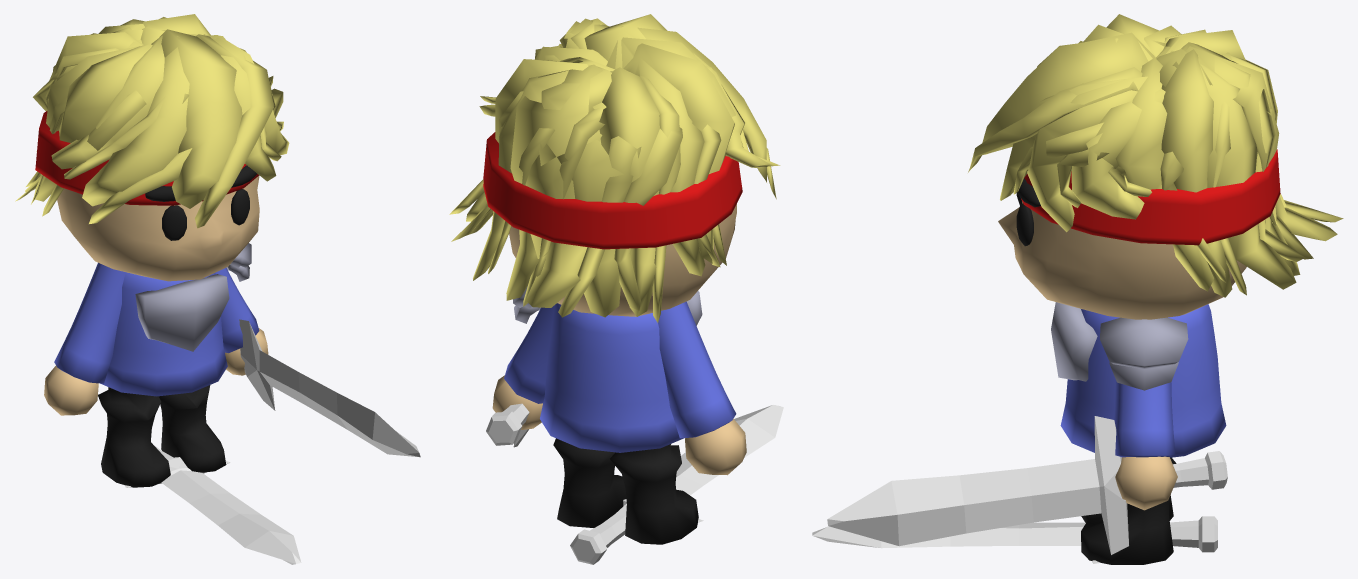
Rendered from sword.fbx.
3 renders of one model, left to right at view 1: azimuth 30°, elevation 25°; view 2: azimuth 150°, elevation 25°; view 3: azimuth 270°, elevation 25°, orthographic. The views are drawn at different scales.
Visible parts, largest first — view 1: hair_clump_001, head, body, hair_clump_001.002, Plane.002, hair_clump_001.006, Cube.004, right_leg, Plane.001, right_arm, hair_clump_001.005, Plane (+12 smaller); view 2: body, bandana, hair_clump_001.014, hair_clump_001.011, hair_clump_001.012, right_arm, right_leg, hair_clump_001.006, Plane, hair_clump_001.013, hair_clump_001.008, Plane.001 (+12 smaller); view 3: Plane.002, head, body, bandana, hair_clump_001, Cube.004, hair_clump_001.010, hair_clump_001.009, hair_clump_001.007, hair_clump_001.001, Plane.001, hair_clump_001.004 (+8 smaller).
Part boxes in pixels (<box>): hair_clump_001: <box>159,29,273,228</box>; head: <box>57,175,259,281</box>; body: <box>100,272,227,396</box>; hair_clump_001.002: <box>82,35,192,223</box>; Plane.002: <box>239,319,420,457</box>; hair_clump_001.006: <box>34,44,152,216</box>; Cube.004: <box>135,243,251,351</box>; right_leg: <box>98,387,170,487</box>; Plane.001: <box>125,445,301,564</box>; right_arm: <box>54,262,125,383</box>; hair_clump_001.005: <box>51,35,189,179</box>; Plane: <box>159,385,226,472</box>; body: <box>540,303,683,452</box>; bandana: <box>483,132,742,249</box>; hair_clump_001.014: <box>510,64,641,317</box>; hair_clump_001.011: <box>599,67,680,322</box>; hair_clump_001.012: <box>539,70,682,317</box>; right_arm: <box>658,301,736,438</box>; right_leg: <box>610,444,698,544</box>; hair_clump_001.006: <box>623,43,744,265</box>; Plane: <box>553,438,626,527</box>; hair_clump_001.013: <box>506,60,611,306</box>; hair_clump_001.008: <box>626,57,721,276</box>; Plane.001: <box>570,405,783,564</box>; Plane.002: <box>827,416,1227,554</box>; head: <box>998,201,1246,319</box>; body: <box>1060,304,1226,457</box>; bandana: <box>1021,149,1280,245</box>; hair_clump_001: <box>968,32,1156,172</box>; Cube.004: <box>1051,302,1188,390</box>; hair_clump_001.010: <box>1156,49,1305,289</box>; hair_clump_001.009: <box>1161,49,1246,297</box>; hair_clump_001.007: <box>1115,57,1226,291</box>; hair_clump_001.001: <box>1027,76,1147,232</box>; Plane.001: <box>812,516,1217,563</box>; hair_clump_001.004: <box>1071,89,1165,219</box>.
Bounding box in the file's own units: 122 × 207 × 193.
